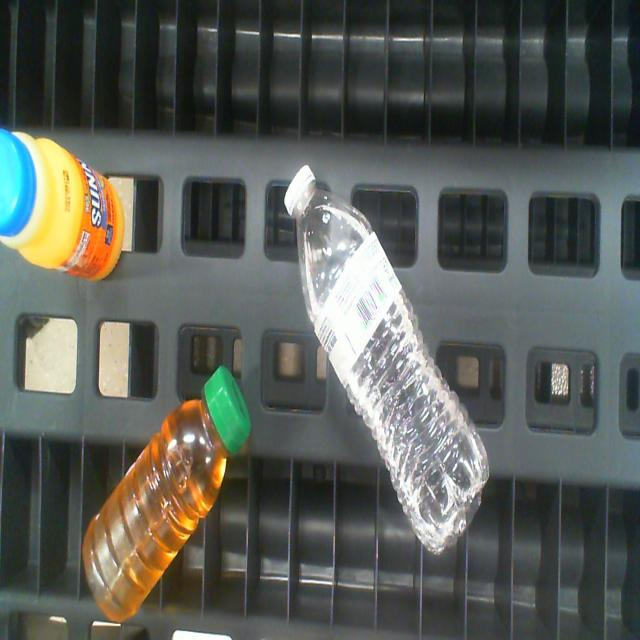drink: (202, 367, 251, 452), (0, 134, 35, 238), (282, 158, 316, 218)
